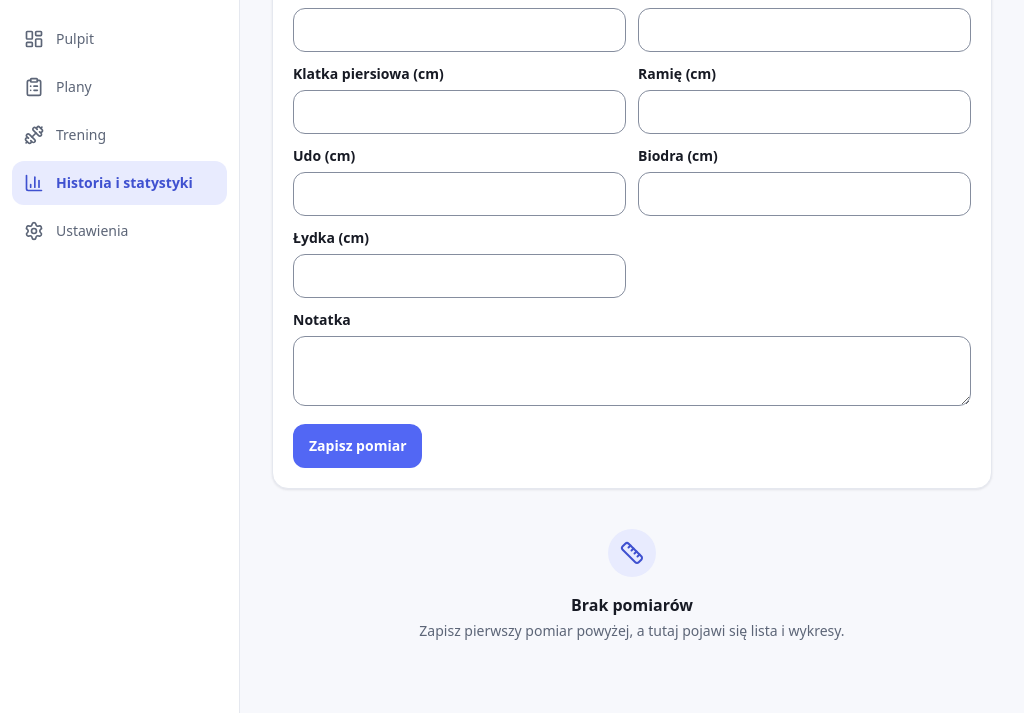
Test: body measurements › refuses an empty entry and impossible numbers without saving
The width and height of the screenshot is (1024, 713).
(page scrolled)
Expected: the heading "Brak pomiarów" is shown, [571,593,693,617]
Step 1. Click the button "Zapisz pomiar" → (358, 446), box [293,424,422,468]
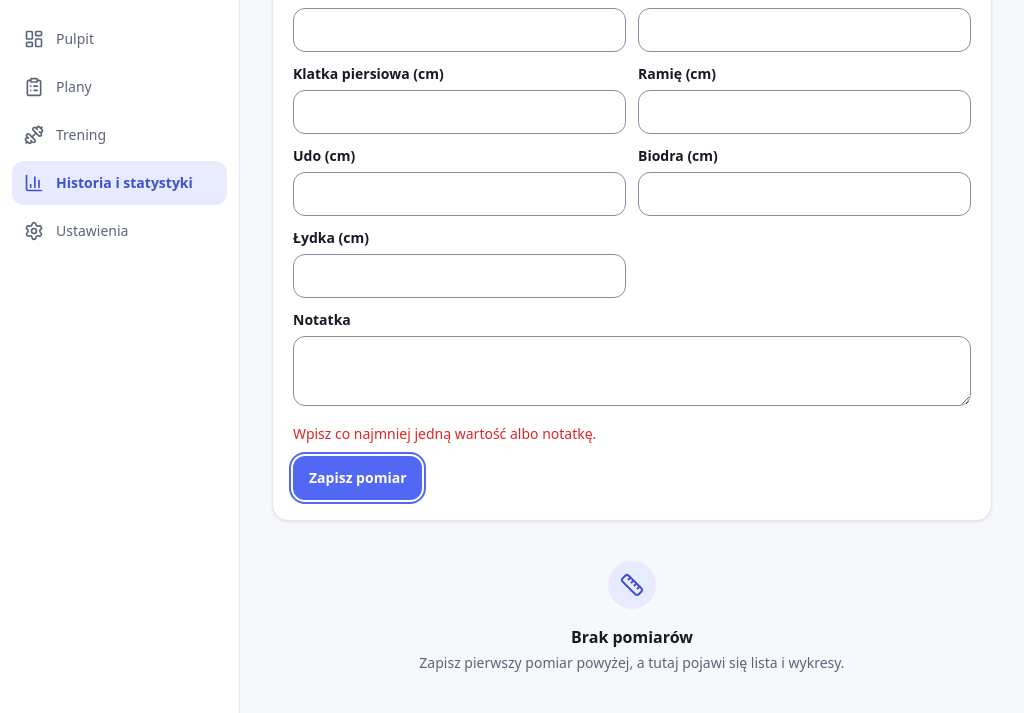
Result: the message reads "Wpisz co najmniej jedną wartość albo notatkę." at [293,424,596,443]
Step 2. Type "0" into the field labelled "Masa ciała (kg)" → (460, 30), box [293,8,626,52]
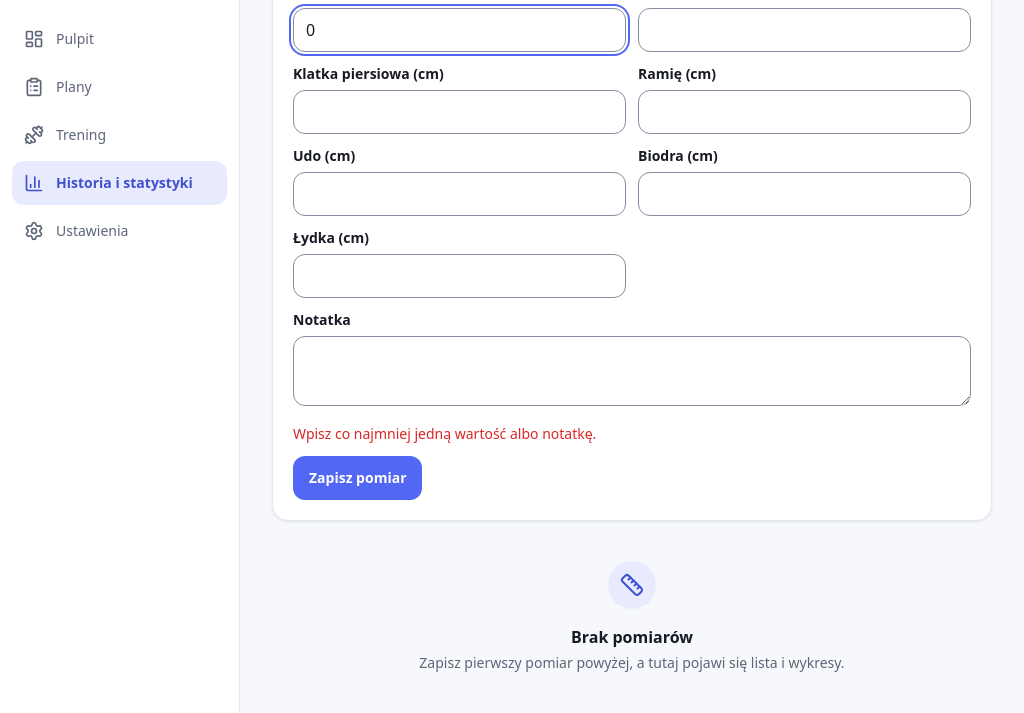
Step 3. Click the button "Zapisz pomiar" → (358, 478), box [293,456,422,500]
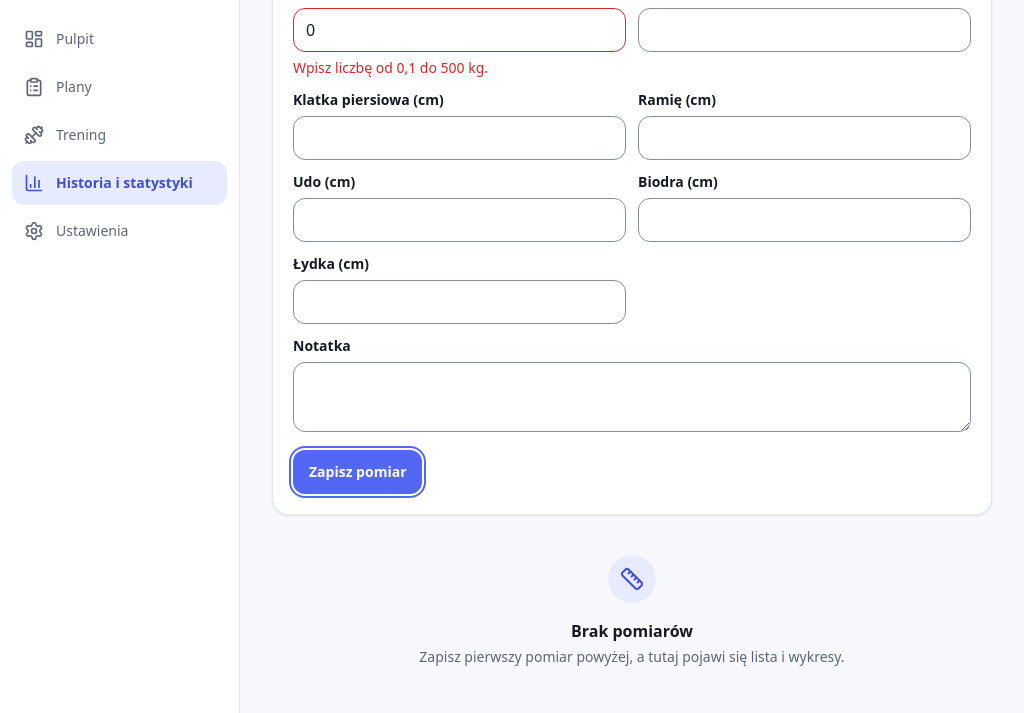
Expected: the heading "Brak pomiarów" is shown, [571,619,693,643]
Result: the text "Wpisz liczbę od 0,1 do 500 kg." is shown at [293,58,488,77]
